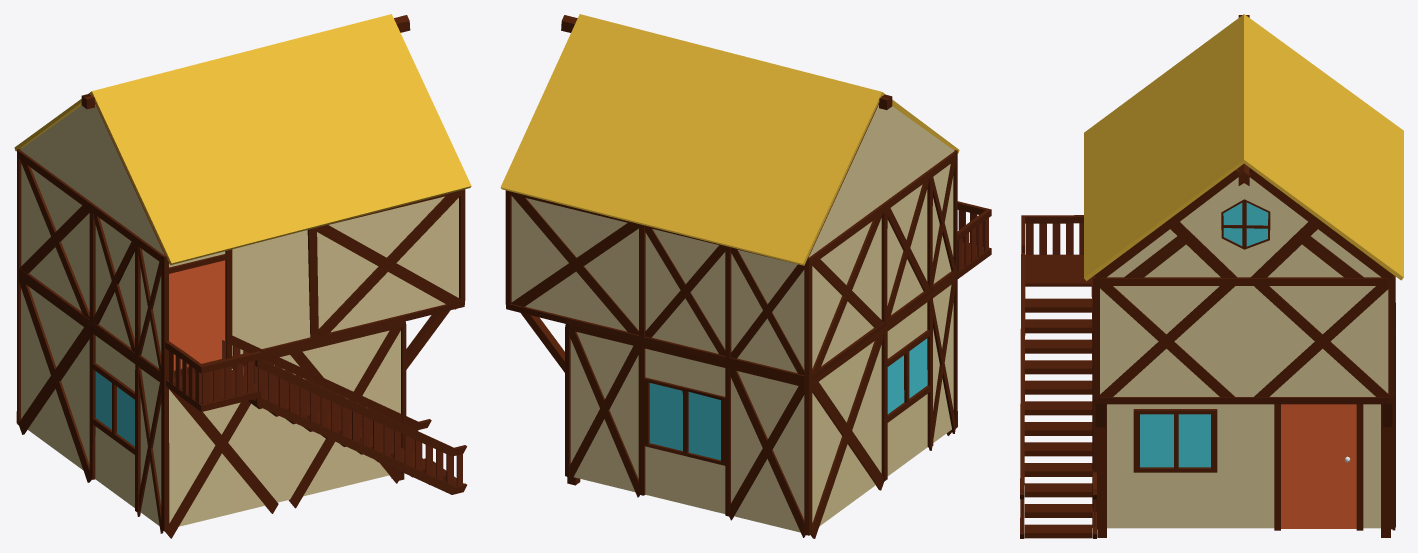
Rendered from MaisonPanDeBois_Escalier.glb.
3 renders of one model, left to right at view 1: azimuth 30°, elevation 25°; view 2: azimuth 150°, elevation 25°; view 3: azimuth 270°, elevation 25°, orthographic. The views are drawn at different scales.
Visible parts, largest first — view 1: Base; view 2: Base; view 3: Base.
Boxes of the visible parts, box(x1,y1,x2,y2) form: Base: box(14, 14, 471, 538); Base: box(500, 14, 991, 538); Base: box(1020, 14, 1403, 538).
Bounding box in the file's own units: 4.29 × 5.07 × 4.31.
